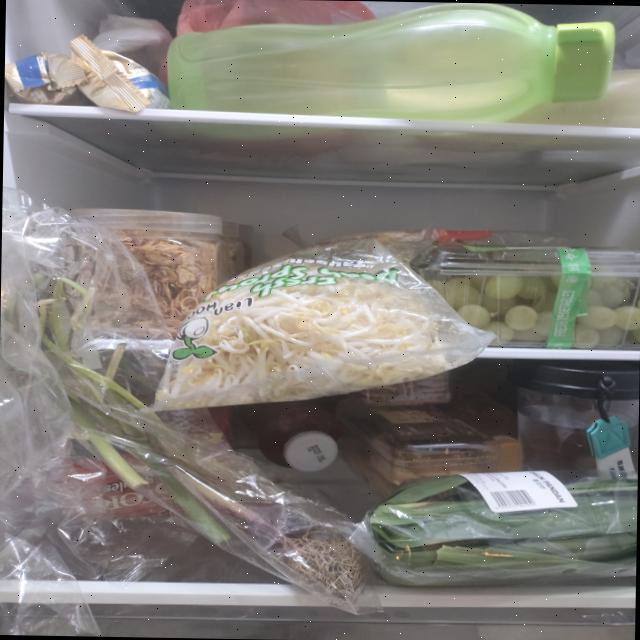bean_sprouts: (154, 253, 451, 414)
grape: (426, 272, 640, 350)
leafy_greens: (362, 470, 638, 590)
spring_onion: (0, 240, 381, 602)
